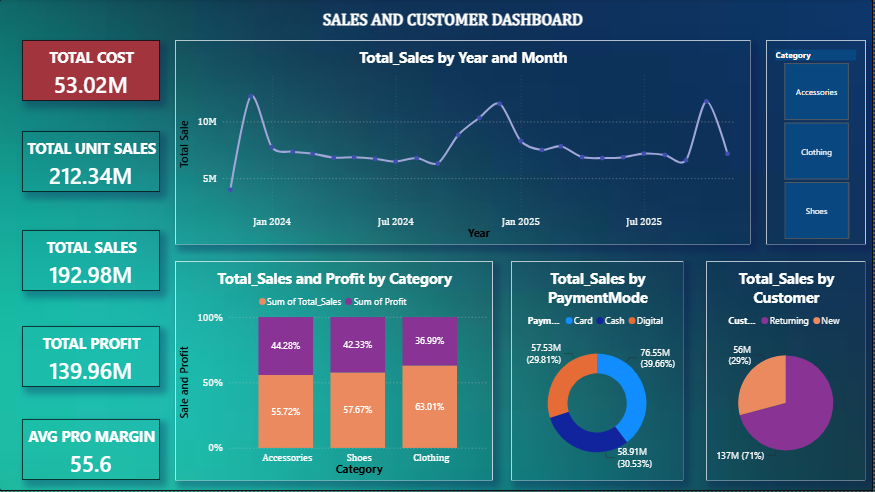

The dashboard page shown, as its layout file describes it:
{"tool":"powerbi","page":{"name":"Page 1","canvas":[1280,720],"ordinal":0},"visuals":[{"type":"cardVisual","title":"TOTAL SALES","fields":{"Data":["Sum(fashionwave_sales.Total_Sales)"]},"box":[33.6,337.6,201.6,89],"z":0},{"type":"cardVisual","title":"TOTAL PROFIT","fields":{"Data":["Sum(fashionwave_sales.Profit)"]},"box":[33.6,478.7,201.6,89],"z":1000},{"type":"cardVisual","title":"TOTAL UNIT SALES","fields":{"Data":["Sum(fashionwave_sales.Total_Unit_sale)"]},"box":[33.6,193.2,201.6,89],"z":2000},{"type":"cardVisual","title":"AVG PRO MARGIN","fields":{"Data":["Avg(fashionwave_sales.Profit_Margin)"]},"box":[33.6,614.8,201.6,89],"z":3000},{"type":"cardVisual","title":"TOTAL COST","fields":{"Data":["Sum(fashionwave_sales.Total _Unit_Cost)"]},"box":[33.6,60.5,201.6,89],"z":4000},{"type":"lineChart","title":"Total_Sales by Year and Month","fields":{"Category":["fashionwave_sales.Date.Variation.Date Hierarchy.Year","fashionwave_sales.Date.Variation.Date Hierarchy.Month"],"Y":["Sum(fashionwave_sales.Total_Sales)"]},"box":[257.6,60,841.5,300],"z":5000},{"type":"slicer","fields":{"Values":["fashionwave_sales.Category"]},"box":[1122.1,60.5,146.1,299],"z":5001},{"type":"hundredPercentStackedColumnChart","title":"Total_Sales and Profit by Category","fields":{"Category":["fashionwave_sales.Category"],"Y":["Sum(fashionwave_sales.Total_Sales)","Sum(fashionwave_sales.Profit)"]},"box":[257,383,465.3,320.8],"z":5002},{"type":"pieChart","title":"Total_Sales by Customer","fields":{"Category":["fashionwave_sales.CustomerType"],"Y":["Sum(fashionwave_sales.Total_Sales)"]},"box":[1034.8,383,233.5,320.8],"z":5003},{"type":"donutChart","title":"Total_Sales by PaymentMode","fields":{"Category":["fashionwave_sales.PaymentMode"],"Y":["Sum(fashionwave_sales.Total_Sales)"]},"box":[749.2,383,252,320.8],"z":5004},{"type":"textbox","box":[424.4,11.7,480,38],"z":5005}]}

Visuals, with their boxes in screenshot pixels (x1, y1, x2, y2), scaled from the page's 1280x720 canvas onto the 875x492 screenshot:
"TOTAL SALES" cardVisual: crop(23, 231, 161, 292)
"TOTAL PROFIT" cardVisual: crop(23, 327, 161, 388)
"TOTAL UNIT SALES" cardVisual: crop(23, 132, 161, 193)
"AVG PRO MARGIN" cardVisual: crop(23, 420, 161, 481)
"TOTAL COST" cardVisual: crop(23, 41, 161, 102)
"Total_Sales by Year and Month" lineChart: crop(176, 41, 751, 246)
slicer - fashionwave_sales.Category: crop(767, 41, 867, 246)
"Total_Sales and Profit by Category" hundredPercentStackedColumnChart: crop(176, 262, 494, 481)
"Total_Sales by Customer" pieChart: crop(707, 262, 867, 481)
"Total_Sales by PaymentMode" donutChart: crop(512, 262, 684, 481)
textbox: crop(290, 8, 618, 34)
